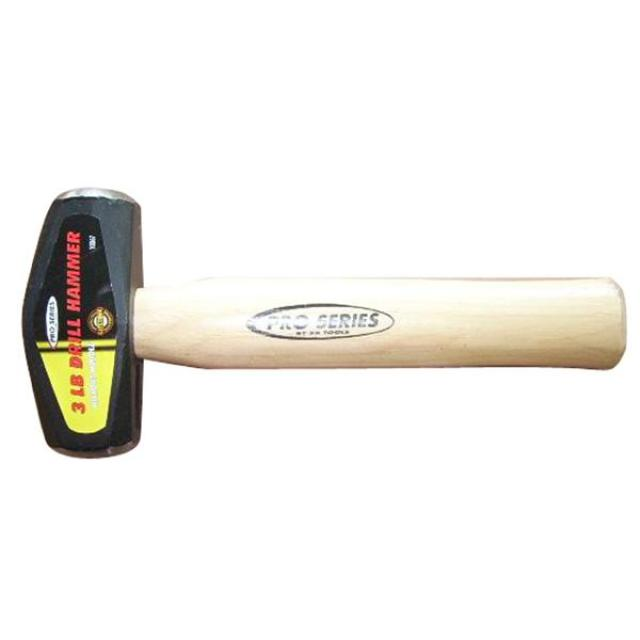hammer: (25, 176, 637, 482)
